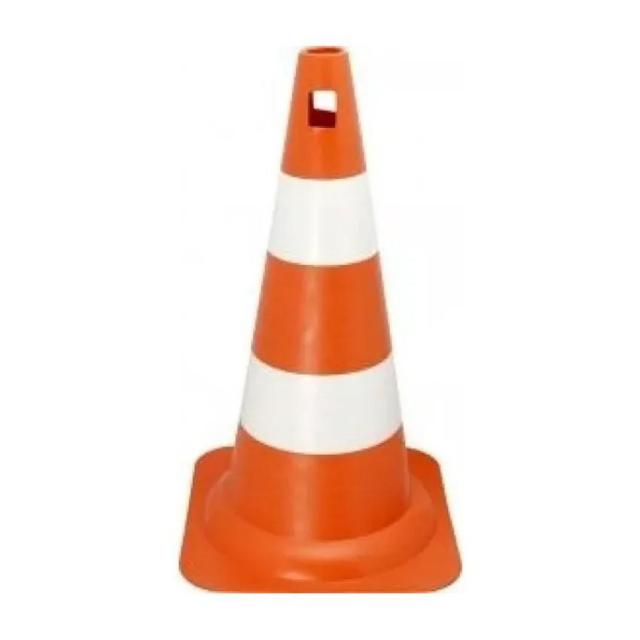cone: (191, 60, 453, 610)
